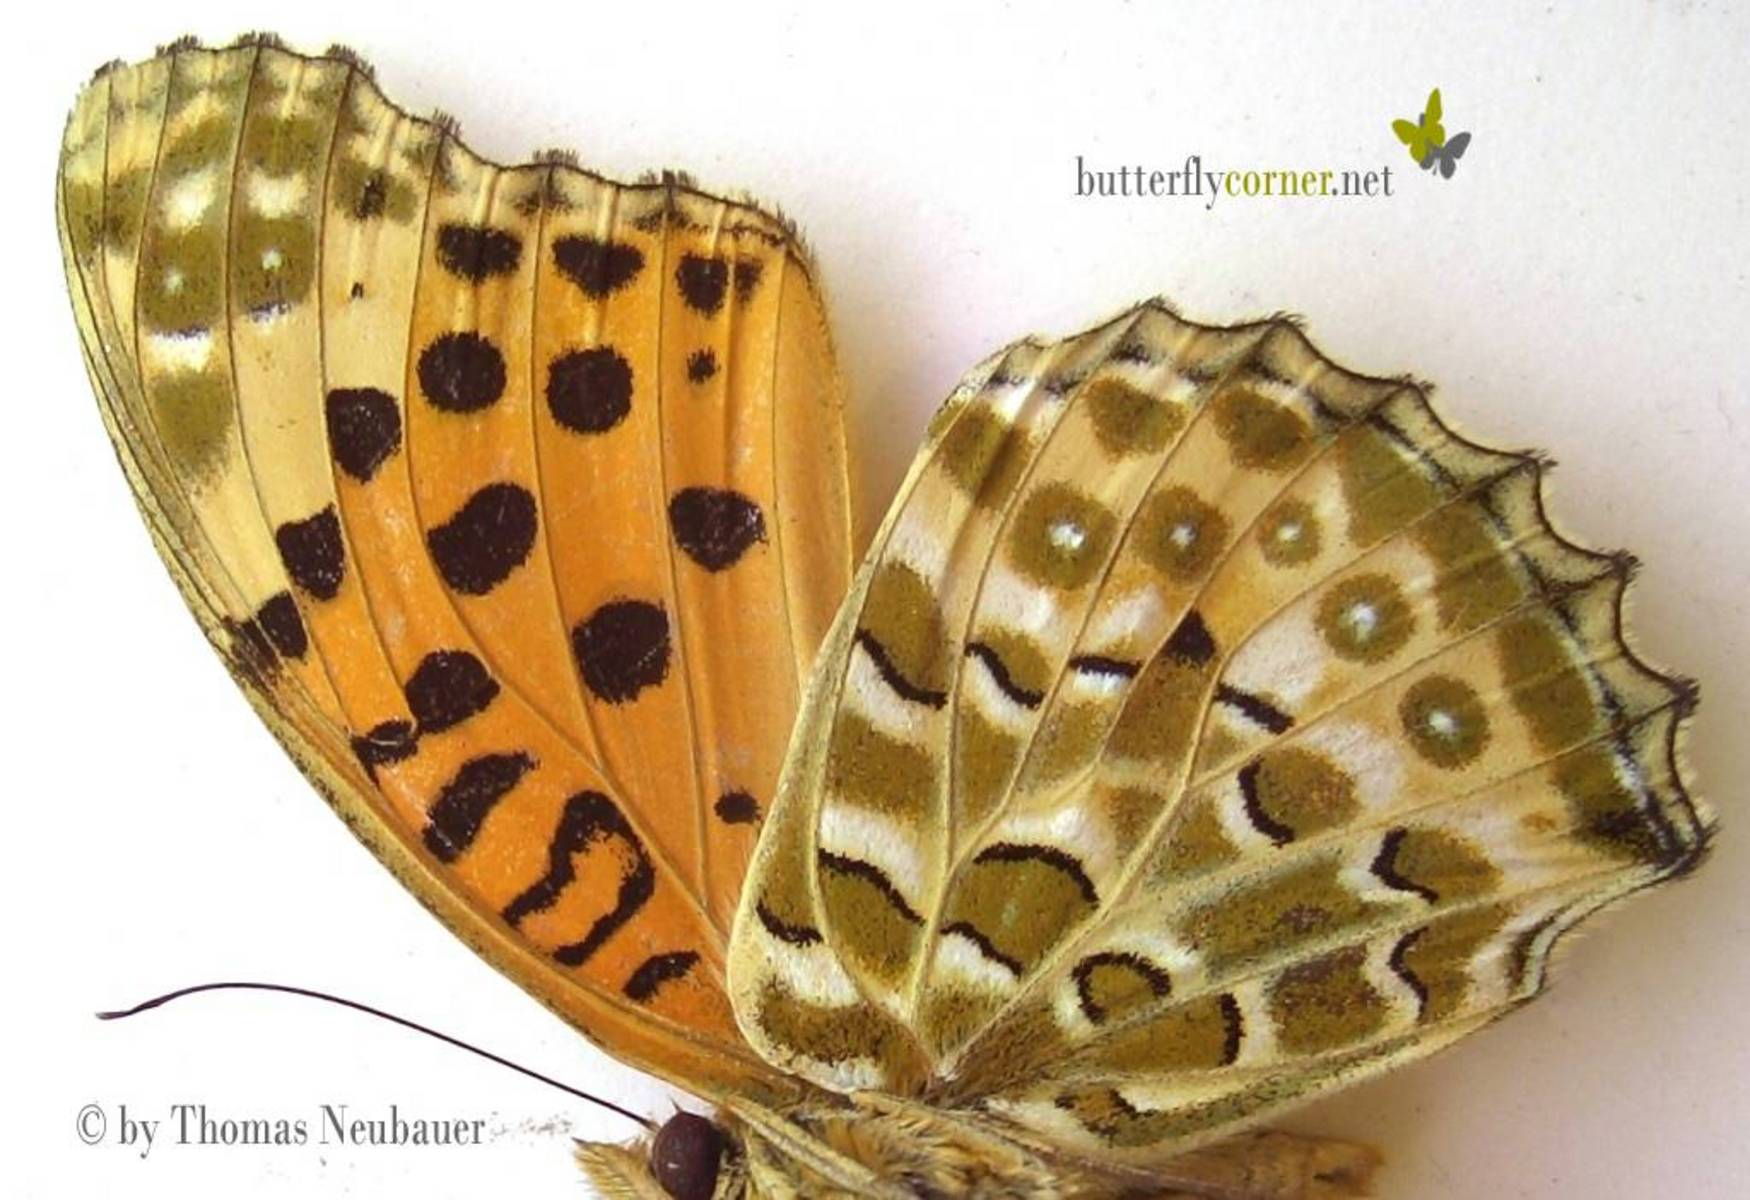Argyreus hyperbius: (41, 23, 1725, 1197)
butterfly: (43, 24, 1727, 1200)
